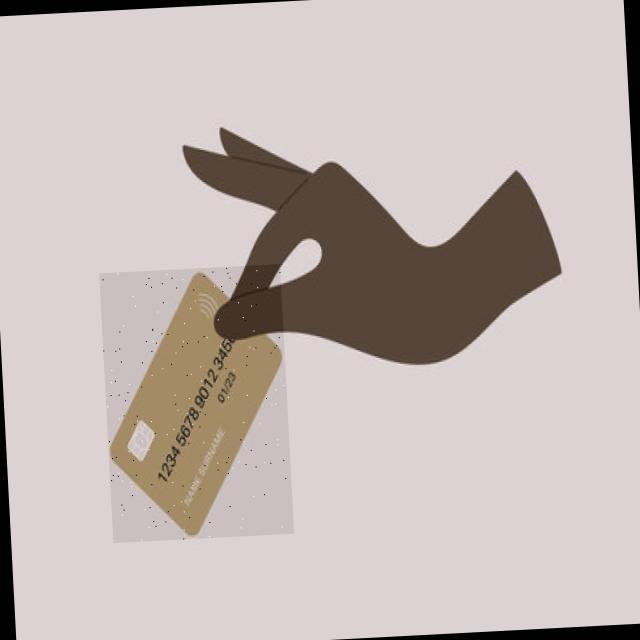payment_card: (103, 269, 286, 538)
